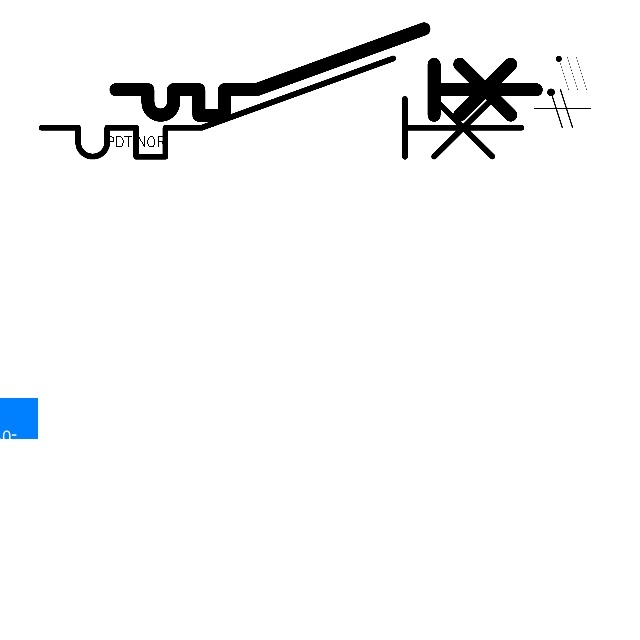interruptor_termomagnetico: (29, 46, 533, 169), (105, 18, 547, 126)
